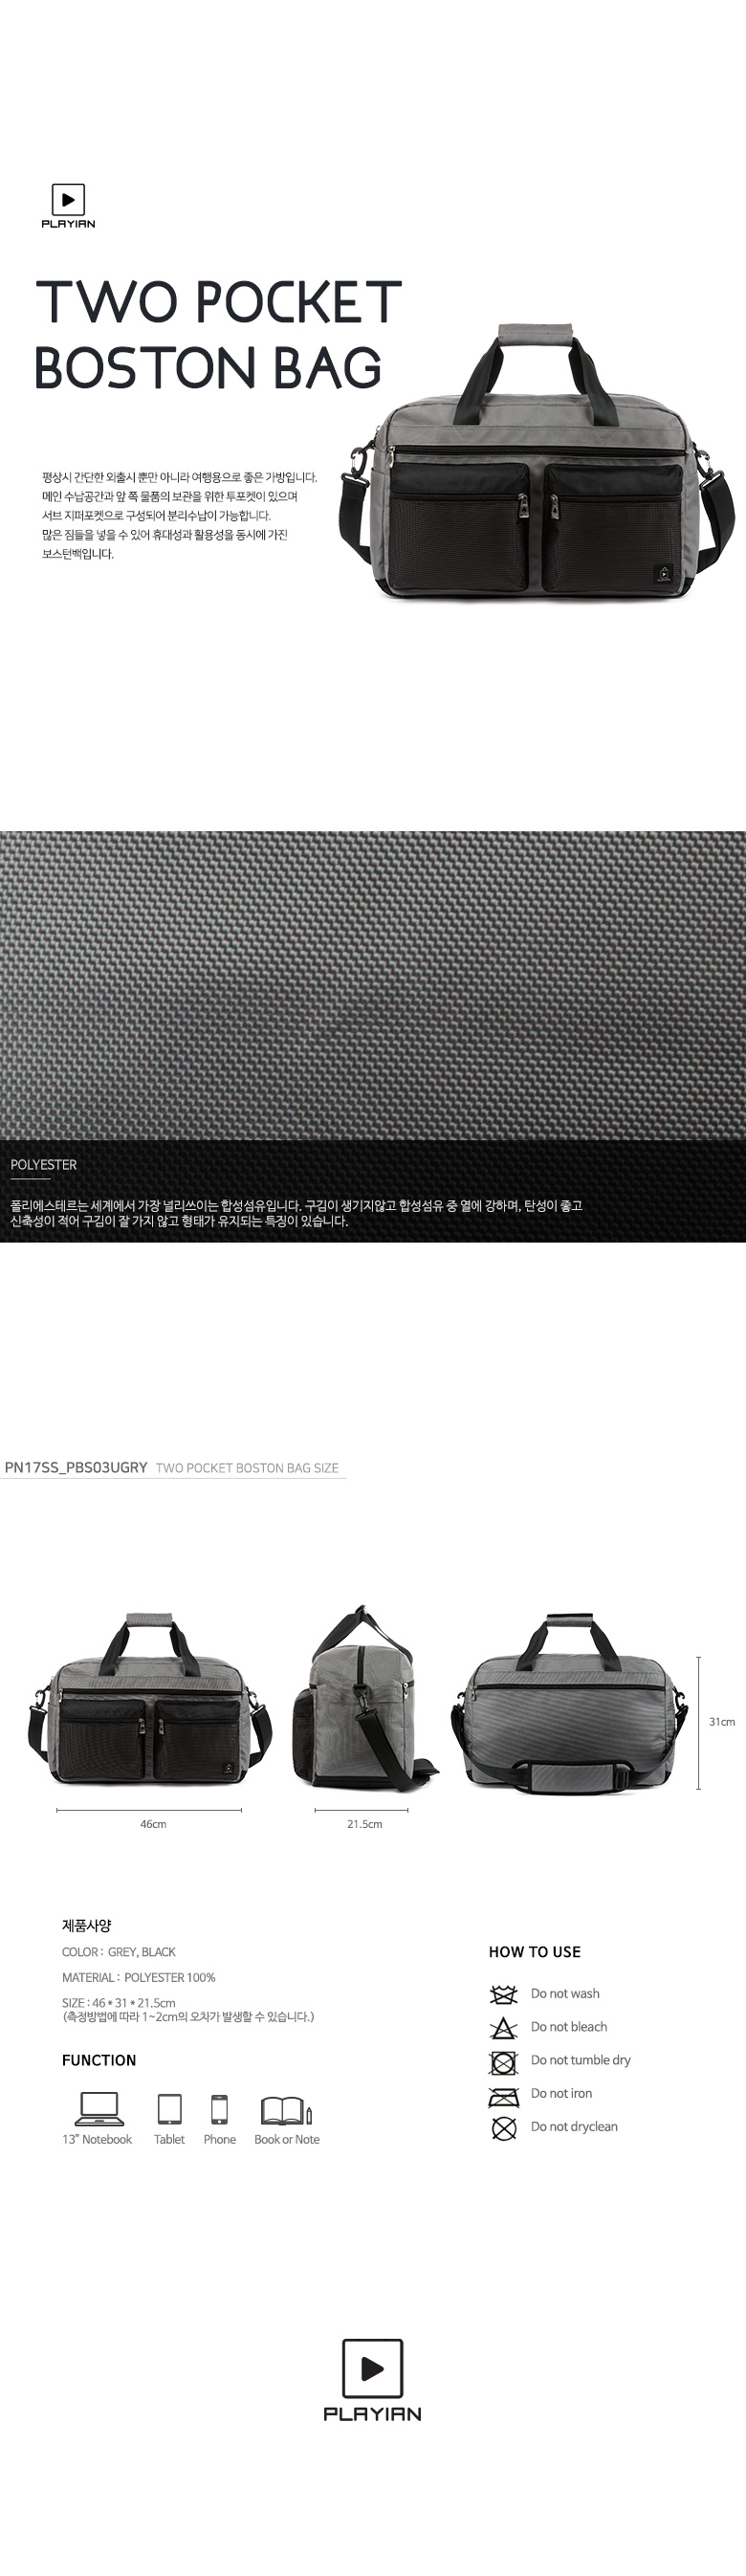do_not_bleach: (488, 2014, 518, 2040)
do_not_dry_clean: (488, 2113, 521, 2142)
do_not_iron: (486, 2085, 524, 2111)
do_not_wash: (486, 1983, 518, 2008)
